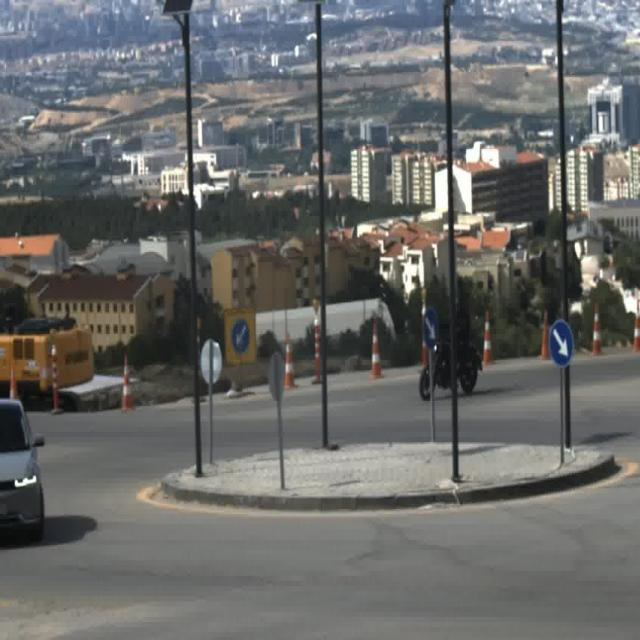Car: (0, 397, 44, 532)
Motorcycle: (421, 295, 480, 398)
